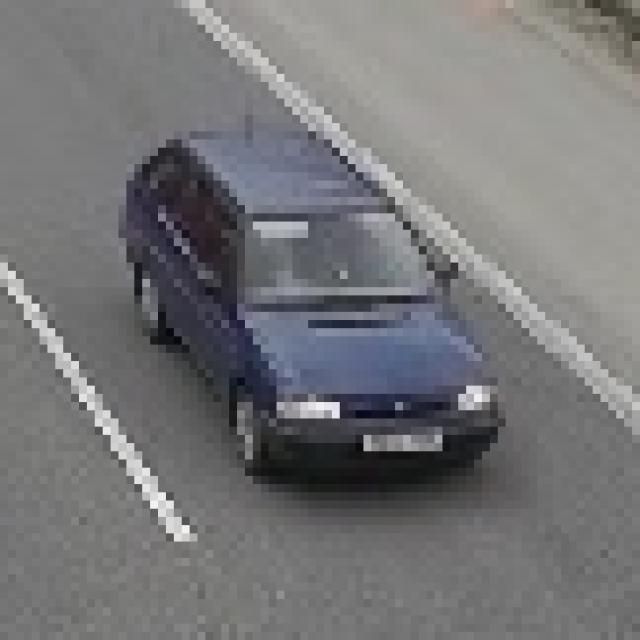blue: (126, 131, 500, 482)
